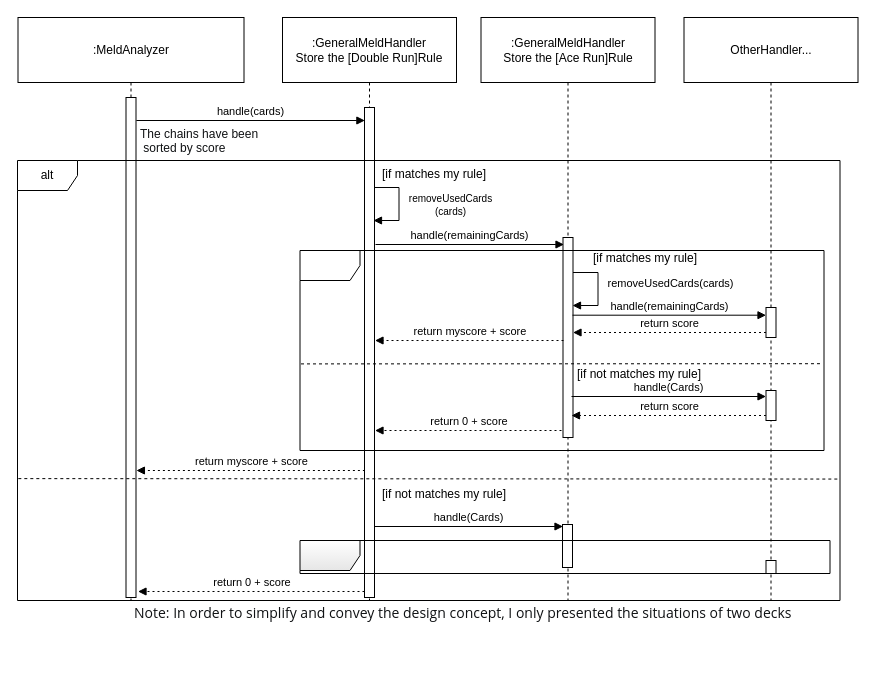
This 876x676 diagram has some shape labels left out. The shapes that lost their labels are listed below. From the top down, each one's box as (x1, y1, x2, y2) in pixels, then its label:
(299, 250, 824, 450): alt:a
(299, 540, 830, 574): ref. alt:a
